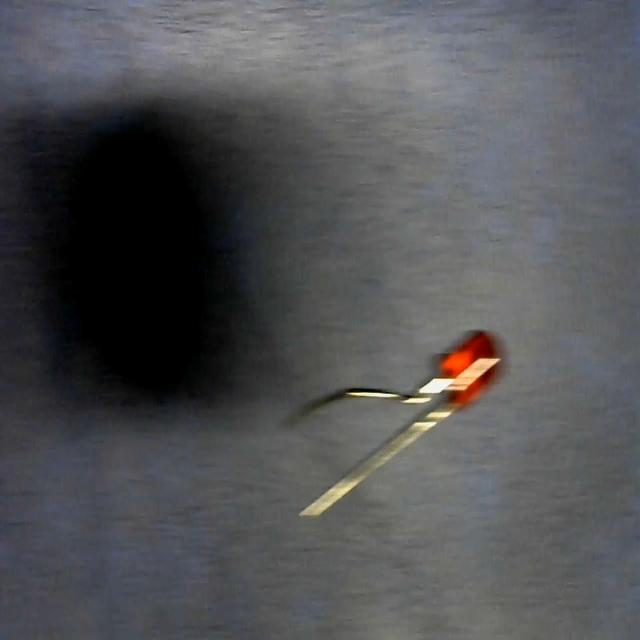LED: (298, 317, 501, 520)
